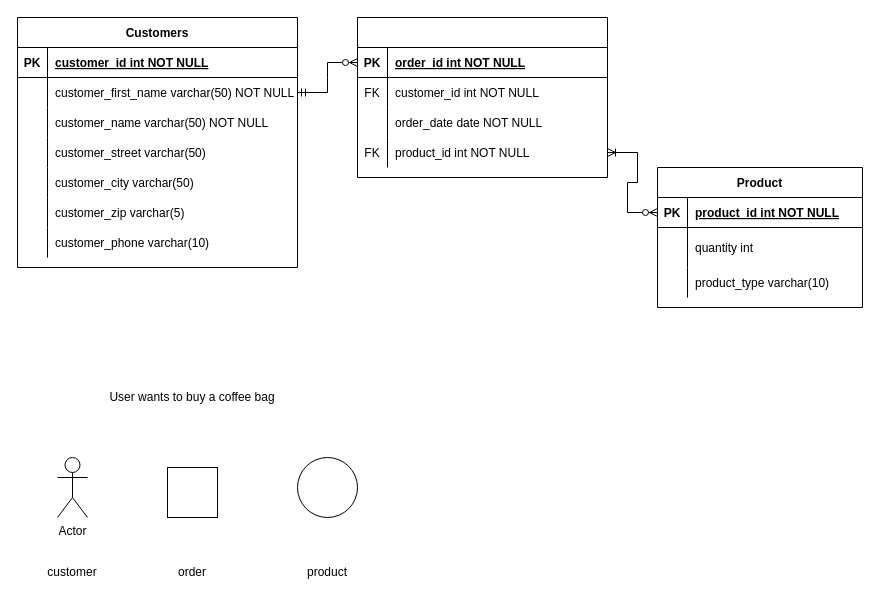
Some shapes in this 880 by 605 pixel diagram are drawn without their labels. Each missing label, with the box of its shape:
Orders: (356, 16, 608, 178)
Specialty Coffee: (296, 456, 358, 518)
